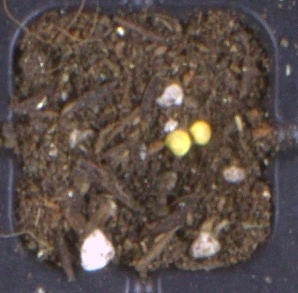chilli seed: (164, 130, 191, 158), (190, 120, 212, 145)
